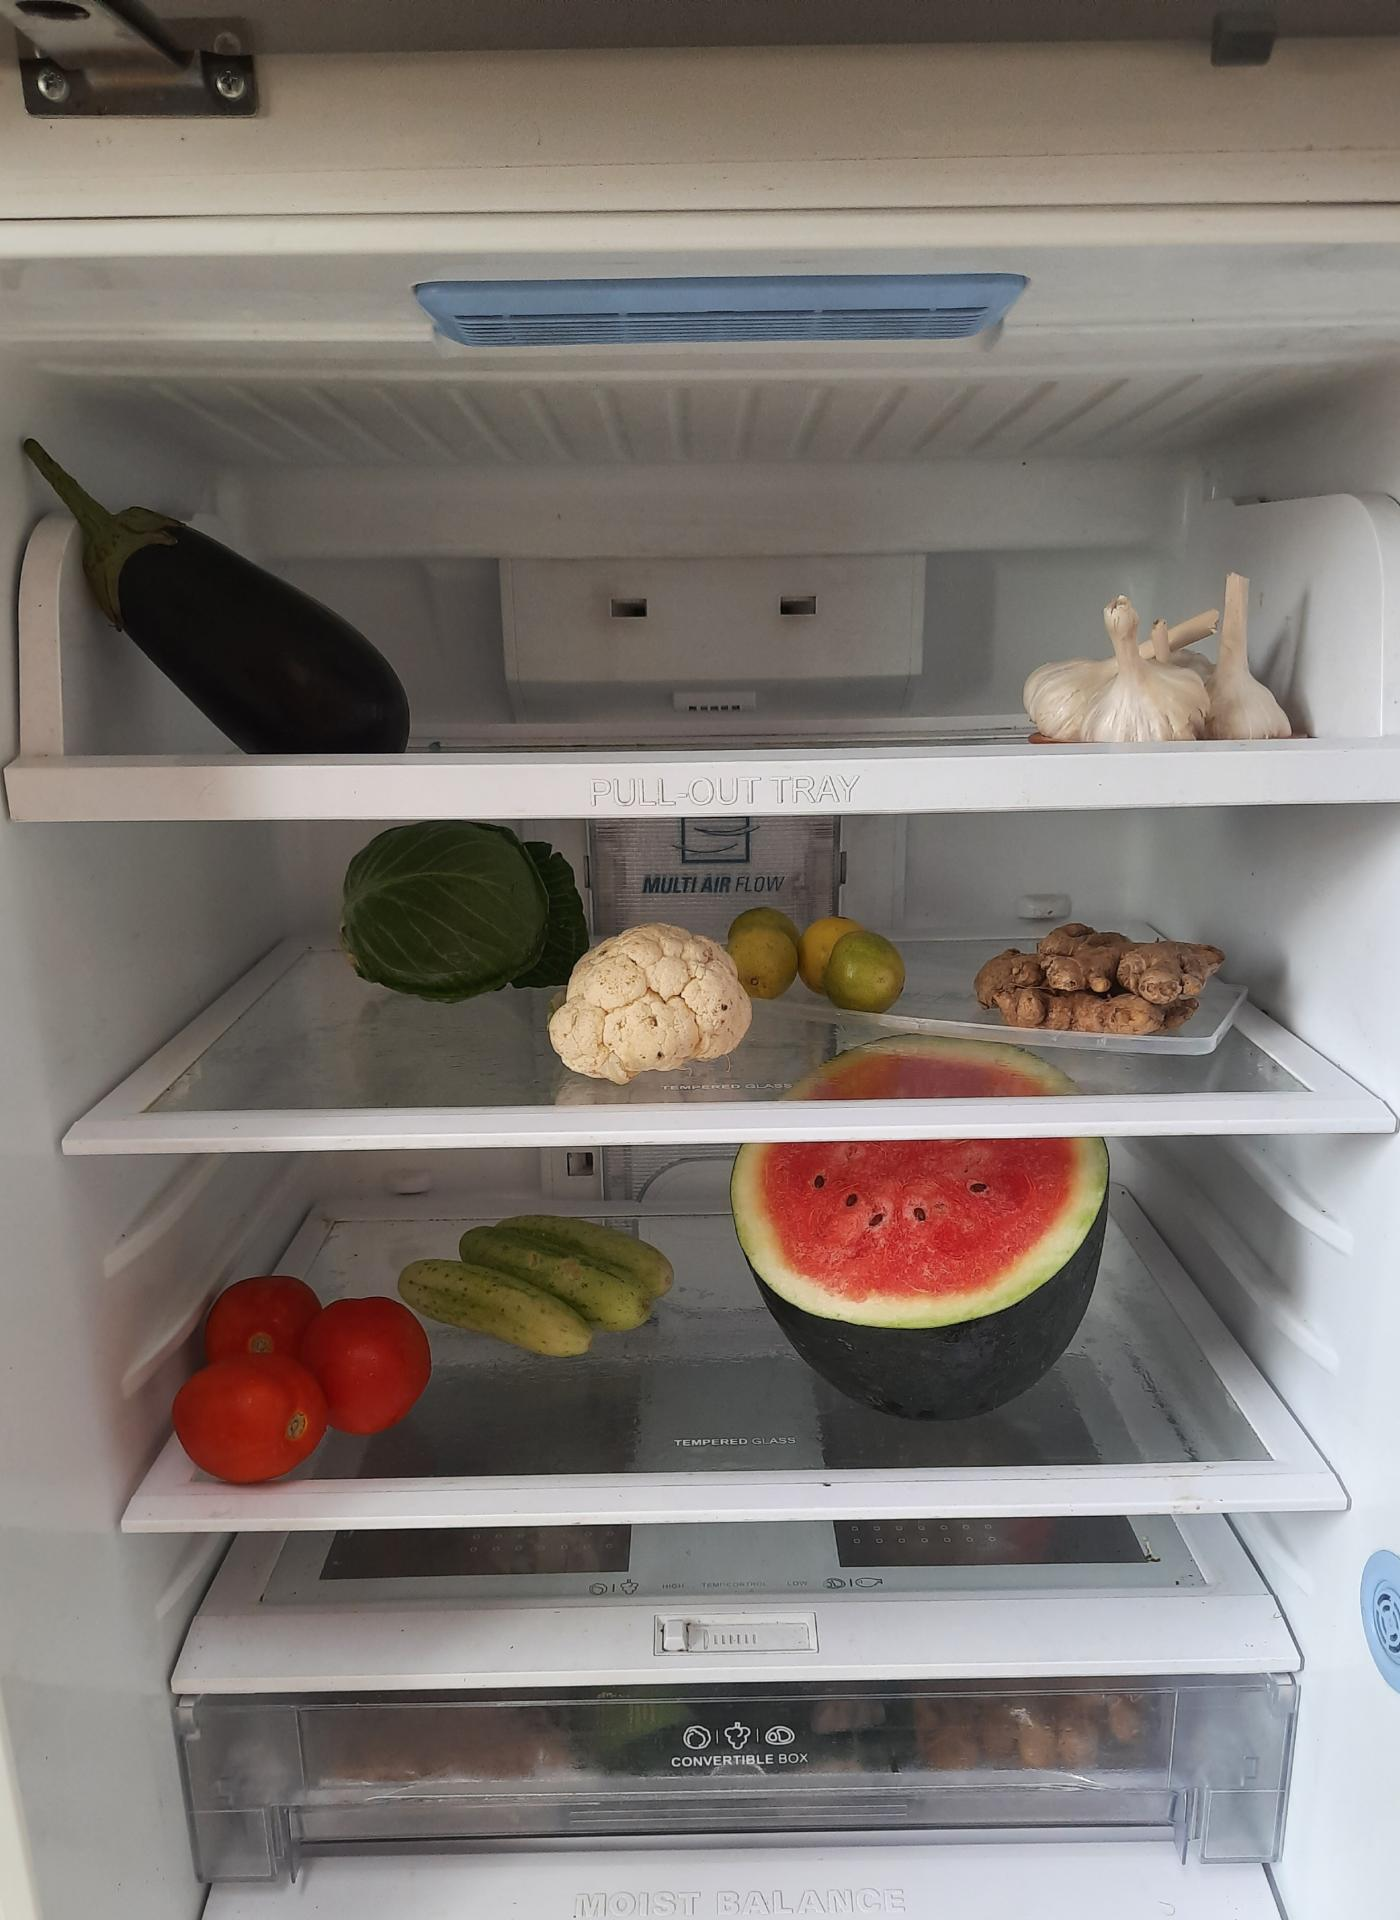brinjal: (19, 452, 434, 753)
cabbage: (344, 821, 587, 1003)
cauliflower: (558, 941, 748, 1091)
cucumber: (398, 1209, 677, 1358)
garlic: (1027, 580, 1314, 738)
ginger: (983, 917, 1236, 1042)
lemon: (759, 906, 920, 1011)
tomato: (168, 1283, 437, 1483)
watermelon: (713, 1038, 1099, 1407)
